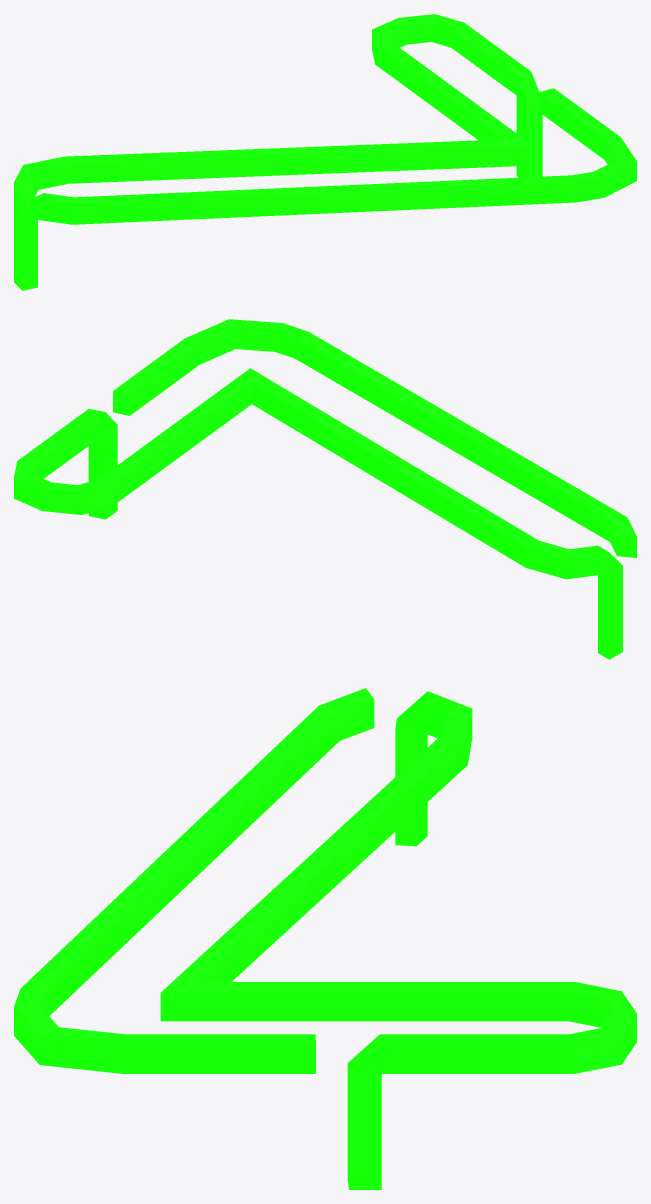
The model's file is Number_3D_04_7.FBX.
3 renders of one model, top to bottom at view 1: azimuth 30°, elevation 25°; view 2: azimuth 150°, elevation 25°; view 3: azimuth 270°, elevation 25°, orthographic. The views are drawn at different scales.
Parts seen in each view (by area): view 1: Number_3D_04_7; view 2: Number_3D_04_7; view 3: Number_3D_04_7.
Boxes of the visible parts, x1,y1,x2,y2 form: Number_3D_04_7: (14, 14, 636, 290); Number_3D_04_7: (14, 319, 636, 659); Number_3D_04_7: (14, 688, 636, 1189).
Bounding box in the file's own units: 66.75 × 12.63 × 49.22.
